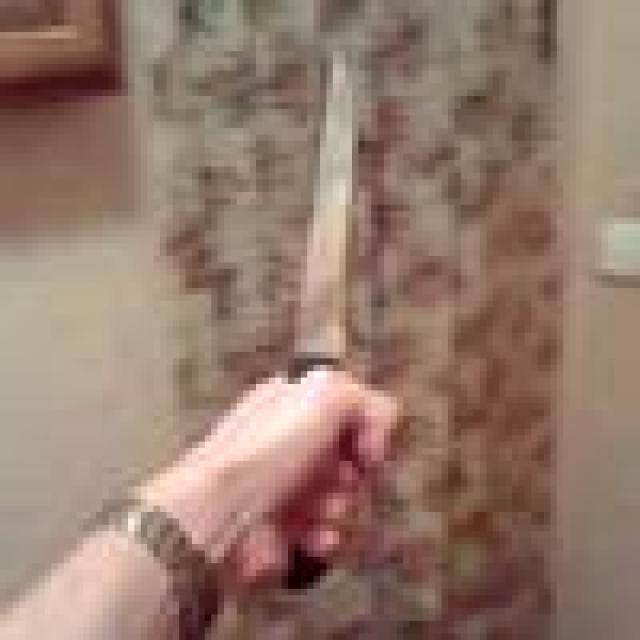knife: (296, 45, 354, 368)
